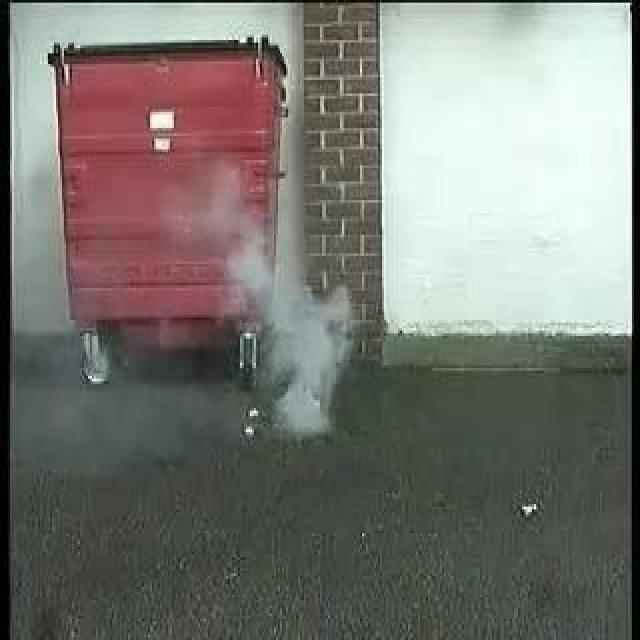Smoke: (222, 228, 348, 439)
